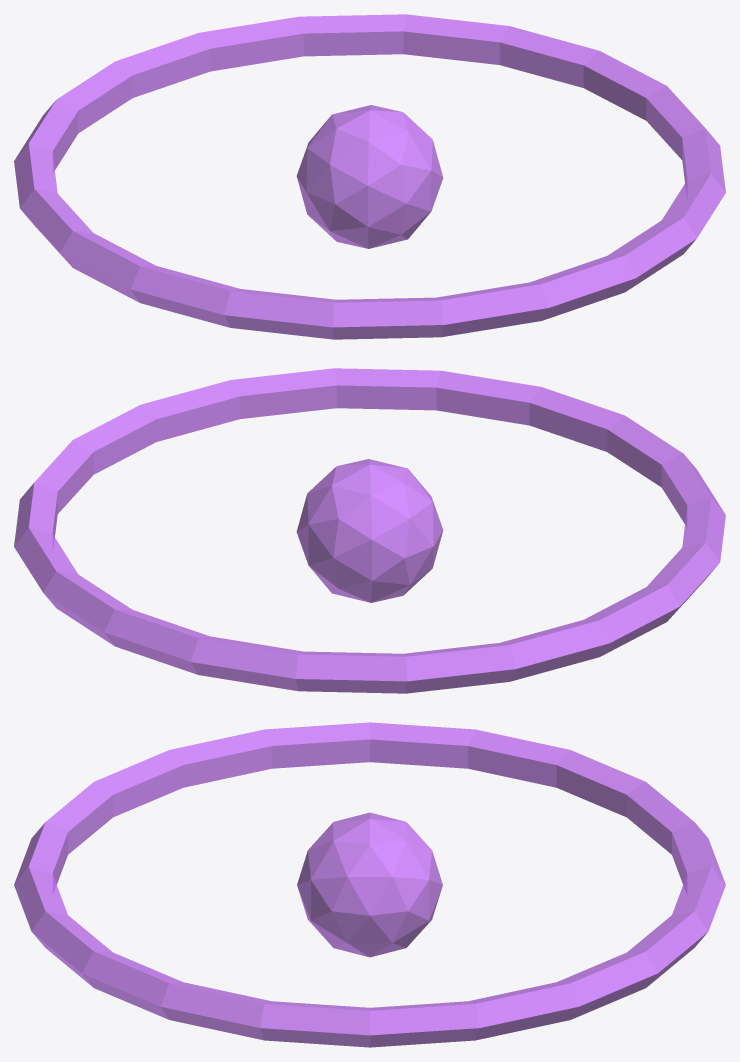
File: perfect_dodge_marker.glb
3 renders of one model, top to bottom at view 1: azimuth 30°, elevation 25°; view 2: azimuth 150°, elevation 25°; view 3: azimuth 270°, elevation 25°, orthographic.
Parts seen in each view (by area): view 1: outline_ring, marker_core; view 2: outline_ring, marker_core; view 3: outline_ring, marker_core.
Boxes of the visible parts, bbox=[...] form: outline_ring: bbox=[14, 14, 725, 339]; marker_core: bbox=[296, 105, 443, 248]; outline_ring: bbox=[14, 368, 725, 693]; marker_core: bbox=[296, 459, 443, 602]; outline_ring: bbox=[14, 722, 725, 1047]; marker_core: bbox=[297, 812, 442, 957].
Bounding box in the file's own units: 1.17 × 0.24 × 1.17.
